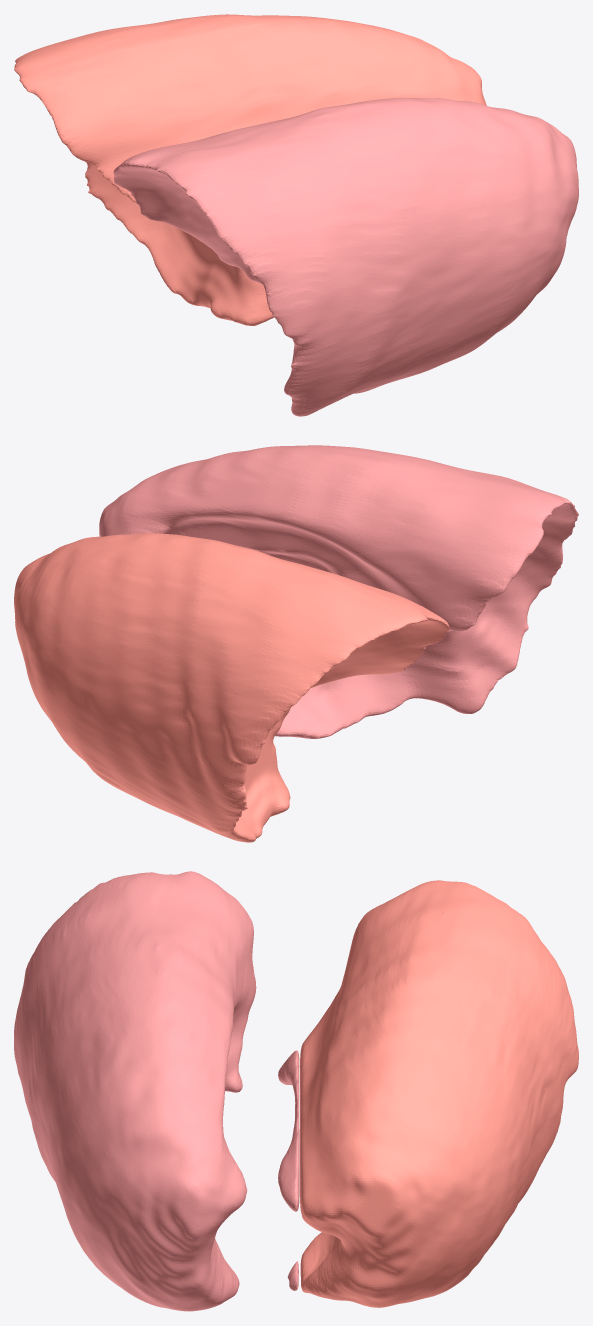
The model's file is lungs.glb.
3 views of the same model, one above another, from view 1: azimuth 30°, elevation 25°; view 2: azimuth 150°, elevation 25°; view 3: azimuth 270°, elevation 25° (orthographic). The views are drawn at different scales.
Parts seen in each view (by area): view 1: left_lung, right_lung; view 2: right_lung, left_lung; view 3: right_lung, left_lung.
Part boxes in pixels (box(x1,y1,x2,y2)): left_lung: box(113, 97, 578, 416); right_lung: box(14, 14, 486, 325); right_lung: box(14, 533, 449, 842); left_lung: box(99, 445, 578, 738); right_lung: box(300, 880, 578, 1307); left_lung: box(14, 871, 299, 1311).
Bounding box in the file's own units: 266 × 163 × 276.
